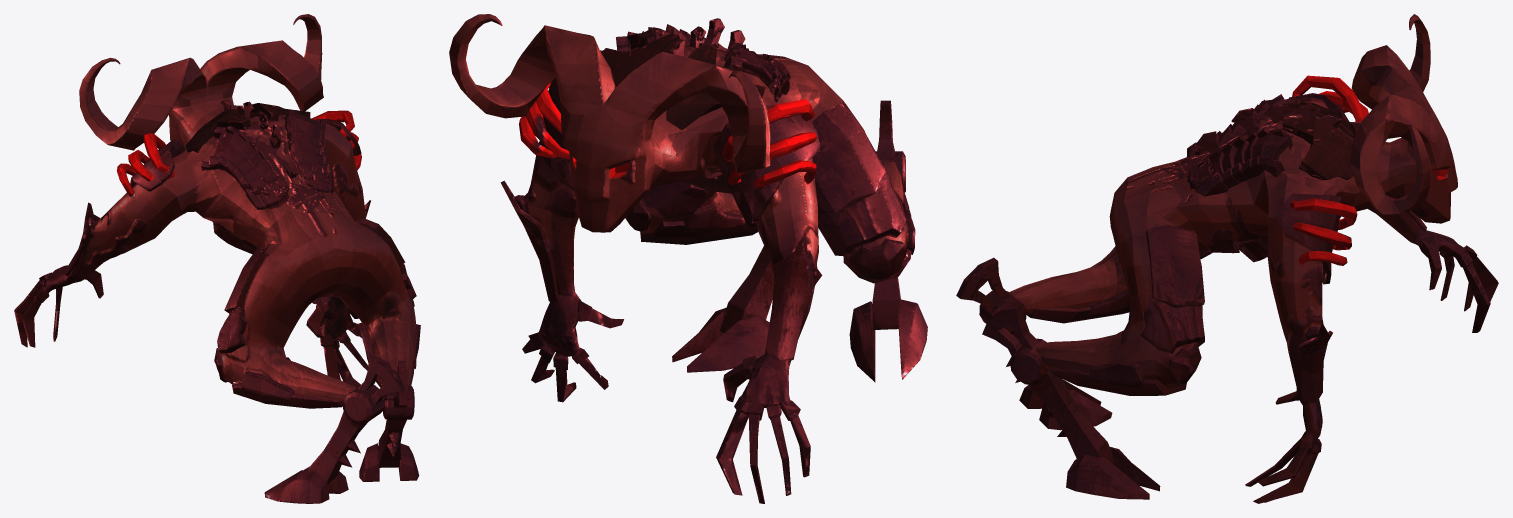
3 renders of one model, left to right at view 1: azimuth 30°, elevation 25°; view 2: azimuth 150°, elevation 25°; view 3: azimuth 270°, elevation 25°, orthographic. The views are drawn at different scales.
Parts seen in each view (by area): view 1: Demon_LOW_Plane.002; view 2: Demon_LOW_Plane.002; view 3: Demon_LOW_Plane.002.
Part boxes in pixels (x1,y1,x2,y2): Demon_LOW_Plane.002: (14,14,420,503); Demon_LOW_Plane.002: (449,14,927,503); Demon_LOW_Plane.002: (956,14,1498,503).
Size of the model in its own units: 3.77 by 4.3 by 5.4.
